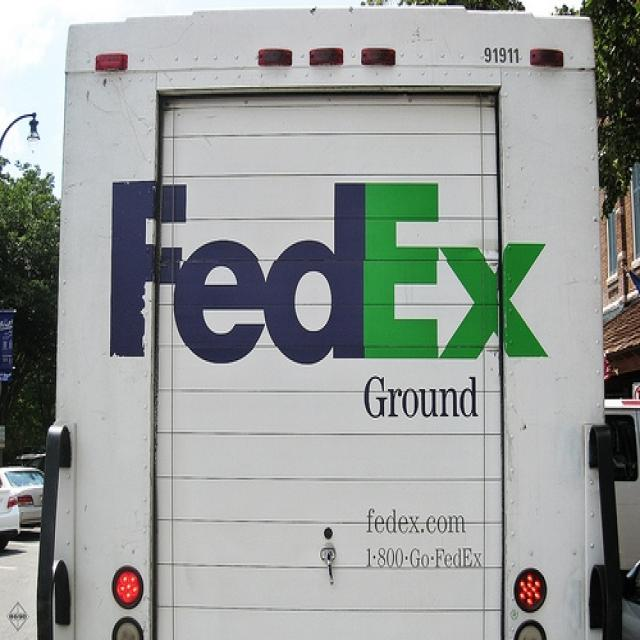fedex: (101, 173, 559, 373)
